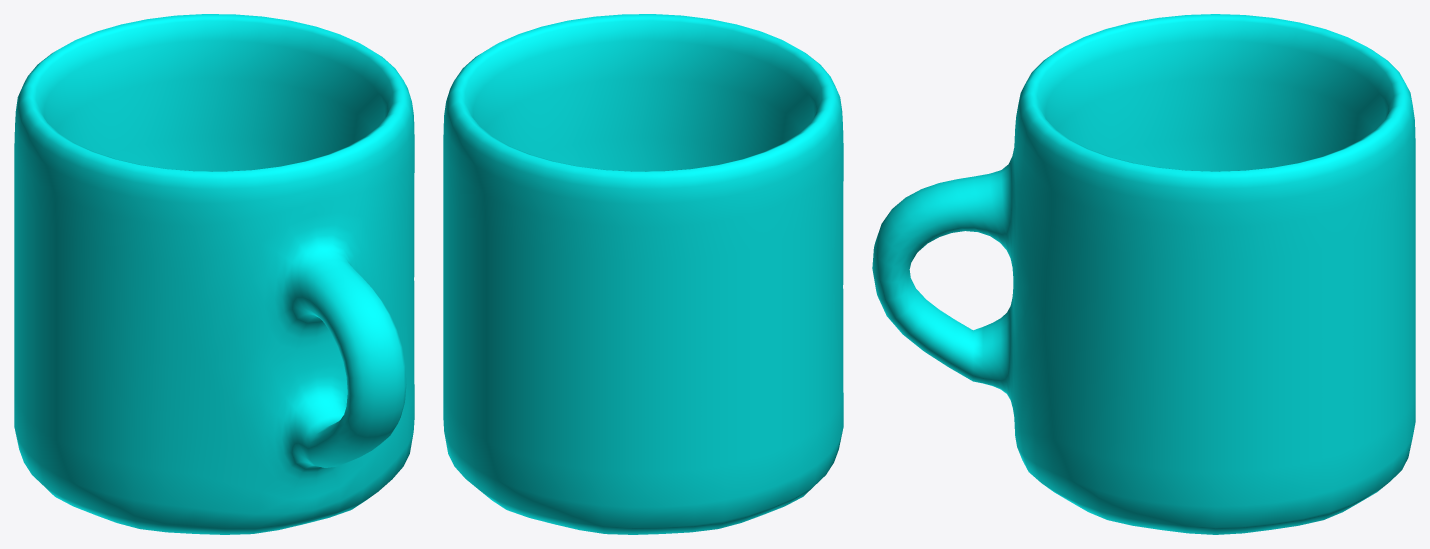
Rendered from mug.obj.
The picture shows the model from 3 angles, left to right: view 1: azimuth 30°, elevation 25°; view 2: azimuth 150°, elevation 25°; view 3: azimuth 270°, elevation 25°; orthographic projection.
Visible parts, largest first — view 1: pCylinder1; view 2: pCylinder1; view 3: pCylinder1.
Part boxes in pixels (x1,y1,x2,y2): pCylinder1: [14, 14, 414, 534]; pCylinder1: [443, 14, 843, 534]; pCylinder1: [872, 14, 1415, 534].
Size of the model in its own units: 1.88 by 1.98 by 2.55.
